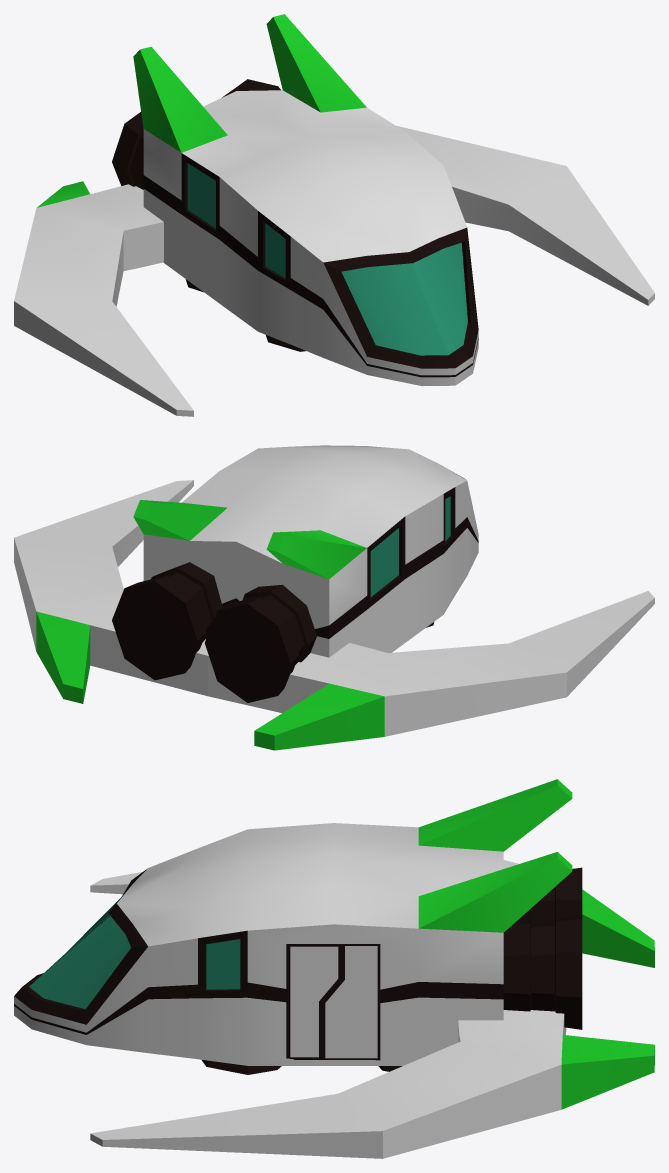
File: Nave 1.fbx
3 views of the same model, one above another, from view 1: azimuth 30°, elevation 25°; view 2: azimuth 150°, elevation 25°; view 3: azimuth 270°, elevation 25° (orthographic). The views are drawn at different scales.
Visible parts, largest first — view 1: Nave, Cube.001, NaveVentana, NaveVentana.003, NaveVentana.002; view 2: Nave, Cube.001, NaveVentana.003; view 3: Nave, Cube.001, PuertaNave.001, PuertaNave, NaveVentana, NaveVentana.001.
Part boxes in pixels (x1=…): Nave: x1=112, y1=14, x2=478, y2=386; Cube.001: x1=14, y1=125, x2=654, y2=416; NaveVentana: x1=341, y1=242, x2=467, y2=355; NaveVentana.003: x1=187, y1=163, x2=215, y2=219; NaveVentana.002: x1=265, y1=223, x2=285, y2=272; Nave: x1=112, y1=445, x2=478, y2=702; Cube.001: x1=14, y1=480, x2=654, y2=750; NaveVentana.003: x1=370, y1=528, x2=398, y2=589; Nave: x1=14, y1=779, x2=582, y2=1074; Cube.001: x1=90, y1=860, x2=654, y2=1158; PuertaNave.001: x1=322, y1=944, x2=380, y2=1060; PuertaNave: x1=286, y1=944, x2=342, y2=1059; NaveVentana: x1=29, y1=897, x2=131, y2=1009; NaveVentana.001: x1=206, y1=939, x2=240, y2=989.
Bounding box in the file's own units: 18.09 × 5.92 × 16.25.
